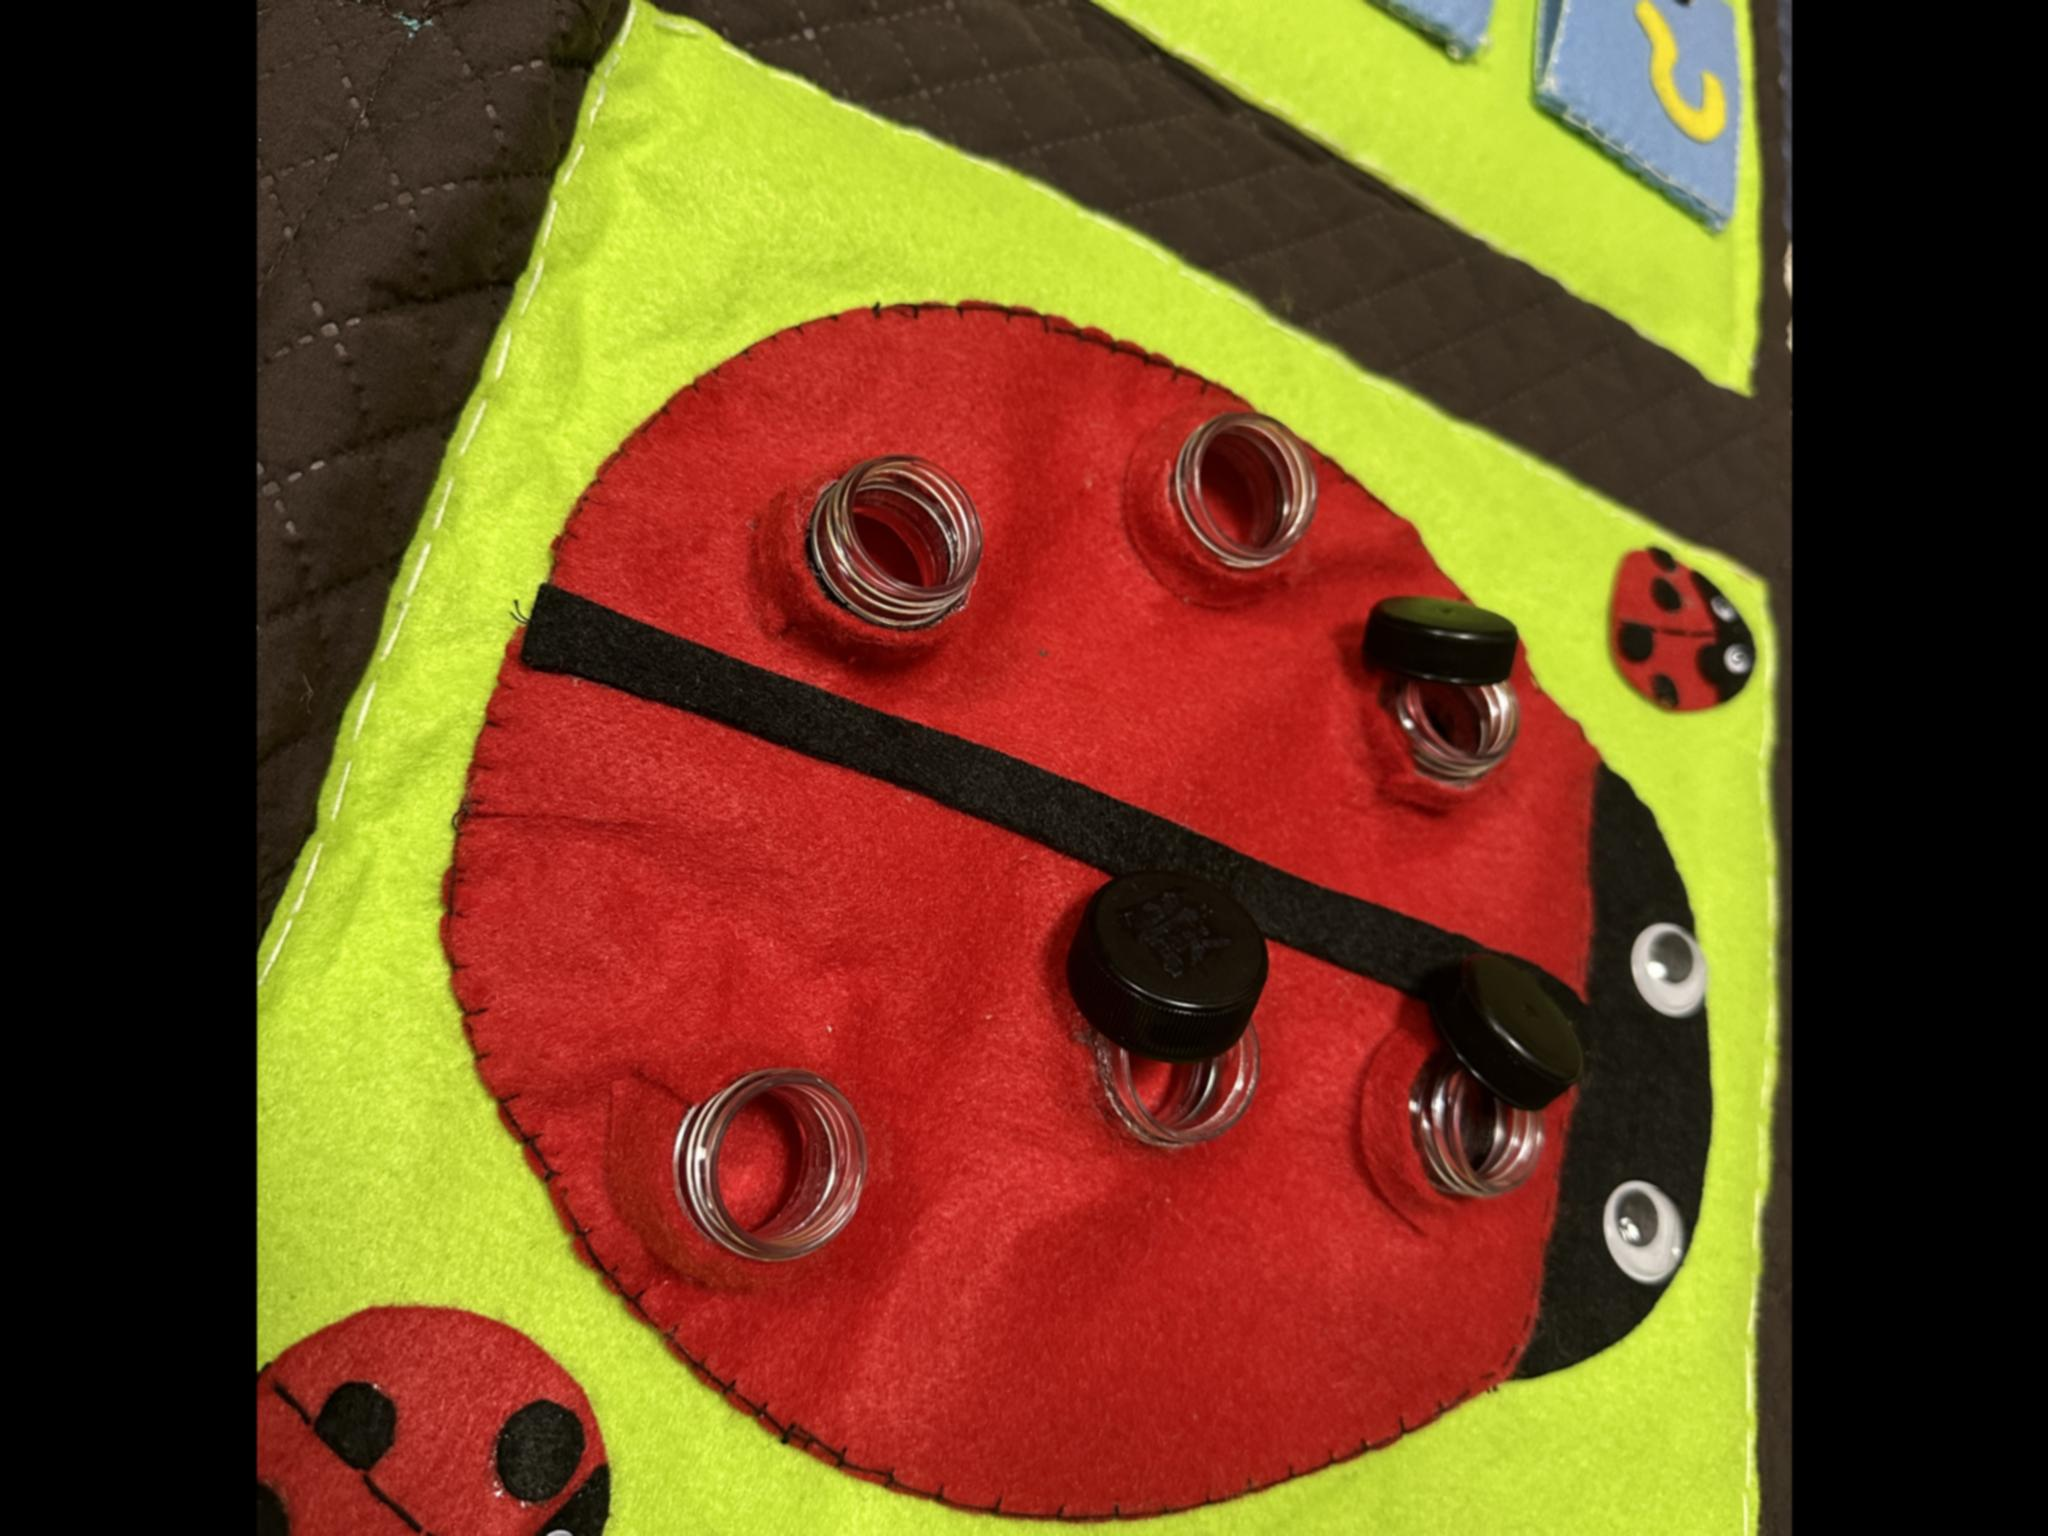cap_ng: (1042, 850, 1279, 1155), (1350, 941, 1585, 1239), (1327, 573, 1537, 850)
